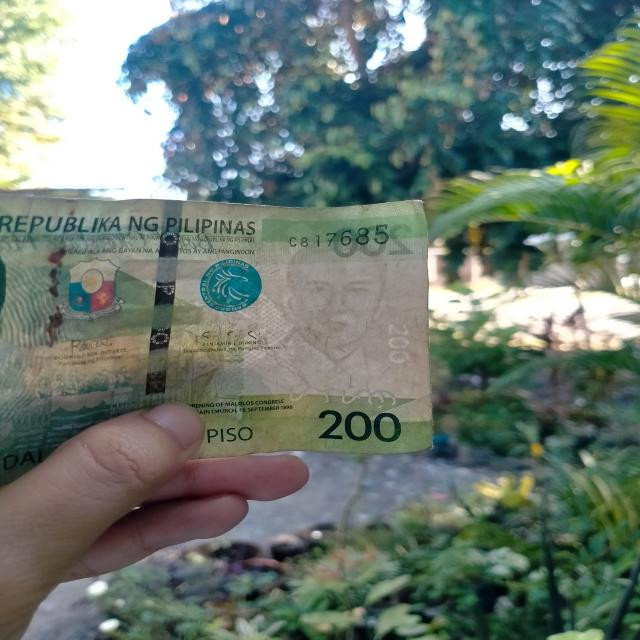security_thread: (142, 200, 185, 414)
see_through_mark: (270, 384, 403, 412)
serial_number: (290, 222, 390, 252)
value_watermark: (383, 318, 418, 374)
watermark: (256, 242, 392, 388)
